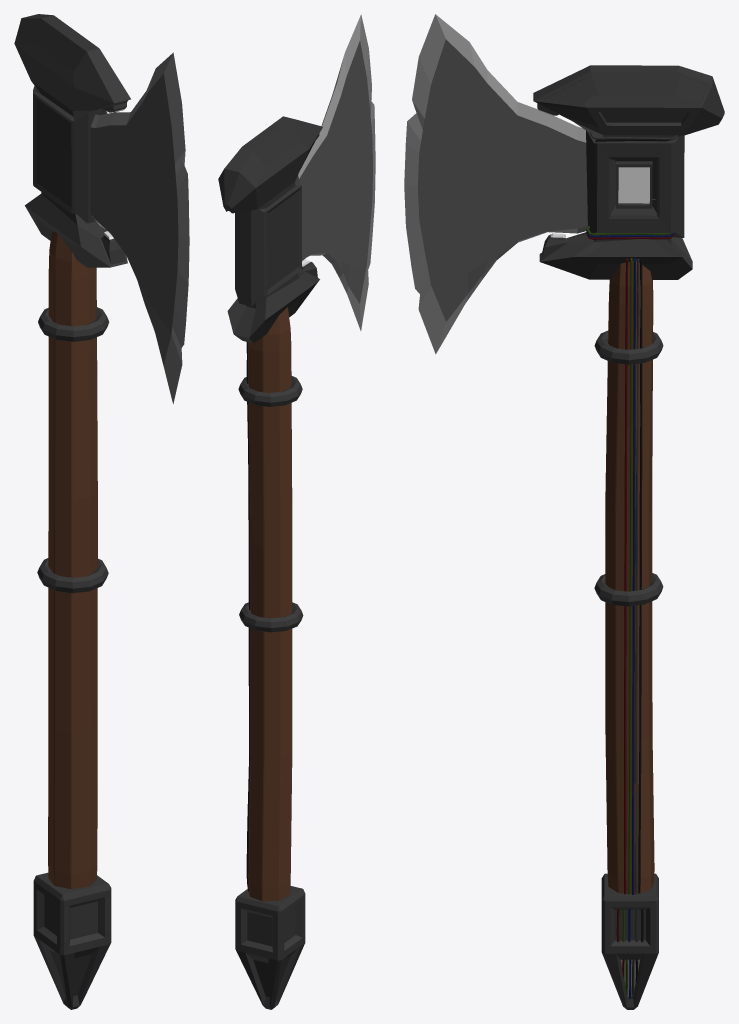
The model's file is Axe.fbx.
3 views of the same model, side by side, from view 1: azimuth 30°, elevation 25°; view 2: azimuth 150°, elevation 25°; view 3: azimuth 270°, elevation 25° (orthographic). The views are drawn at different scales.
Parts seen in each view (by area): view 1: Cylinder.004; view 2: Cylinder.004; view 3: Cylinder.004.
Boxes of the visible parts, x1,y1,x2,y2 form: Cylinder.004: (14, 14, 189, 1009); Cylinder.004: (218, 14, 375, 1009); Cylinder.004: (404, 14, 724, 1009).
Bounding box in the file's own units: 175 × 2752 × 804.
